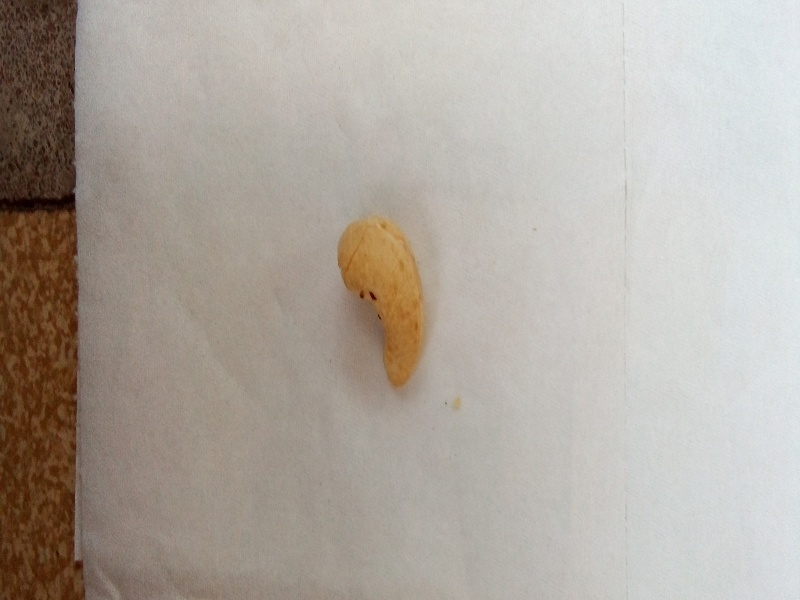cashew: (321, 205, 454, 401)
